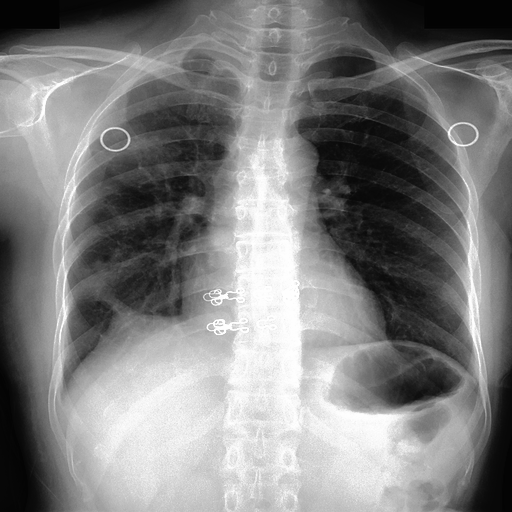Calcification: (138, 44, 250, 84)
ILD: (90, 199, 145, 301), (109, 123, 180, 190)
Other lesion: (100, 301, 138, 330)
Pleural thickening: (83, 250, 140, 313), (108, 135, 177, 186)
